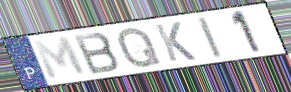1: (230, 9, 264, 56)
B: (72, 31, 123, 77)
I: (196, 15, 225, 59)
K: (152, 20, 199, 63)
M: (30, 35, 90, 82)
Q: (115, 25, 164, 70)
